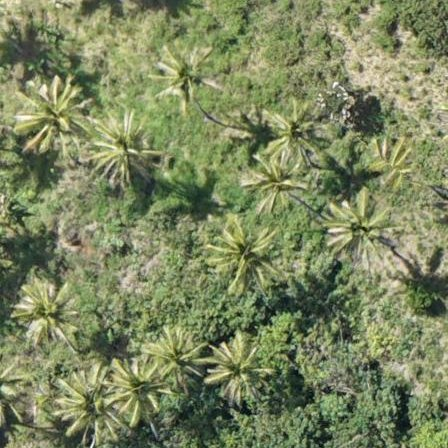palm_tree: (17, 77, 93, 161), (54, 367, 124, 447), (87, 113, 155, 185), (323, 197, 395, 265), (207, 222, 276, 291), (9, 279, 77, 344), (209, 333, 269, 405), (154, 43, 219, 106), (239, 152, 303, 212), (104, 355, 166, 416), (147, 326, 205, 389), (265, 107, 324, 159)
